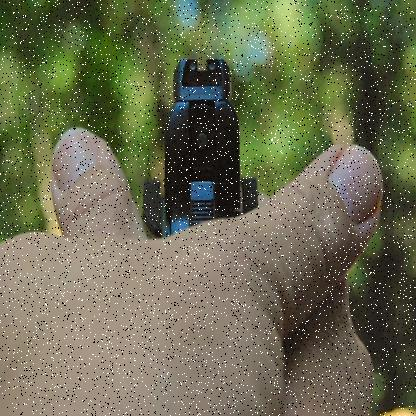pistol: (139, 43, 271, 247)
